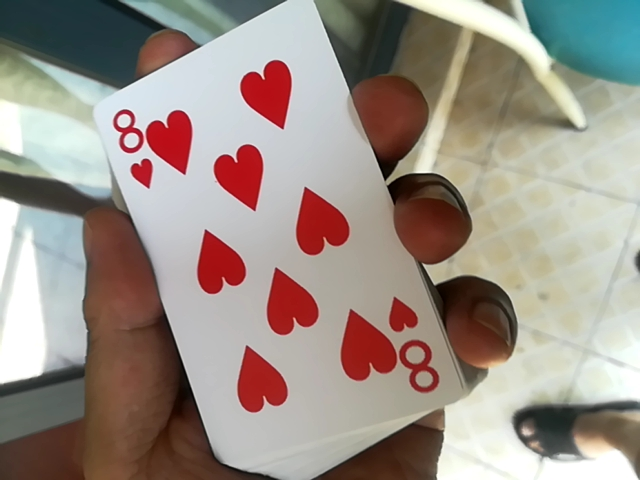hx 8: (74, 8, 438, 470)
